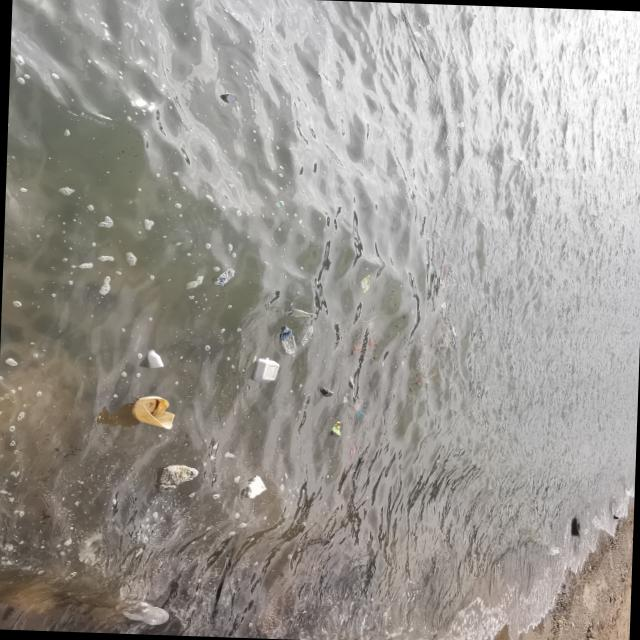can: (325, 418, 344, 437), (220, 92, 237, 103)
foam: (153, 465, 198, 490), (252, 358, 279, 382), (242, 474, 265, 500)
plastic: (117, 600, 172, 626), (278, 327, 296, 355), (212, 266, 236, 286), (143, 348, 164, 368), (284, 309, 314, 319), (318, 386, 333, 396)
plastic bottle: (130, 394, 177, 430), (356, 274, 370, 292)
unknow: (348, 342, 360, 357), (354, 406, 366, 420), (364, 336, 376, 350), (346, 376, 354, 389)
